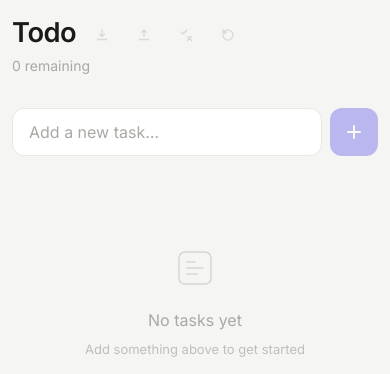
Test: TodoApp › resets everything after double-clicking the reset button
The width and height of the screenshot is (390, 374).
In the field with class "add-input": (167, 132) top-left (12, 108), bottom-right (322, 156), type "Task to wipe"
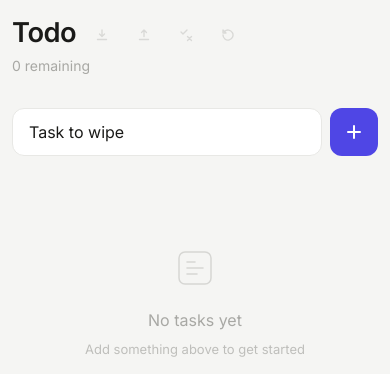
Submit the form with class "add-form", box top-left (12, 108), bottom-right (378, 156)
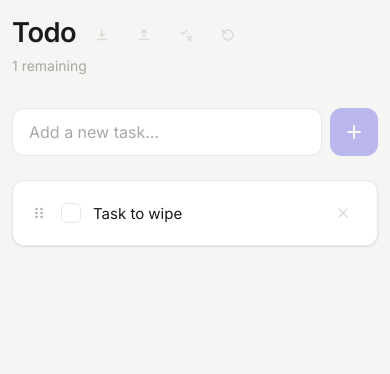
Click the button named "Reset — clears all tasks": (228, 35) top-left (212, 19), bottom-right (244, 51)
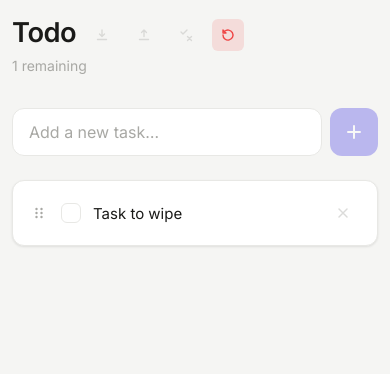
Click the button named "Click again to confirm": (228, 35) top-left (212, 19), bottom-right (244, 51)
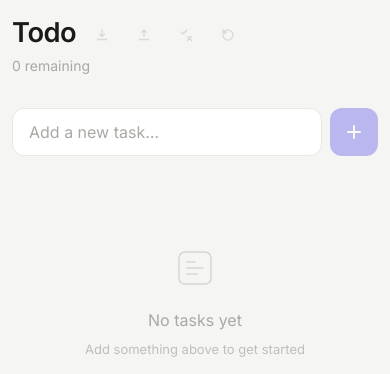
Expected: the heading with class "title" reads "Todo", top-left (12, 16), bottom-right (76, 49)
Expected: the element with class "empty-state" is shown, top-left (85, 244), bottom-right (305, 357)
